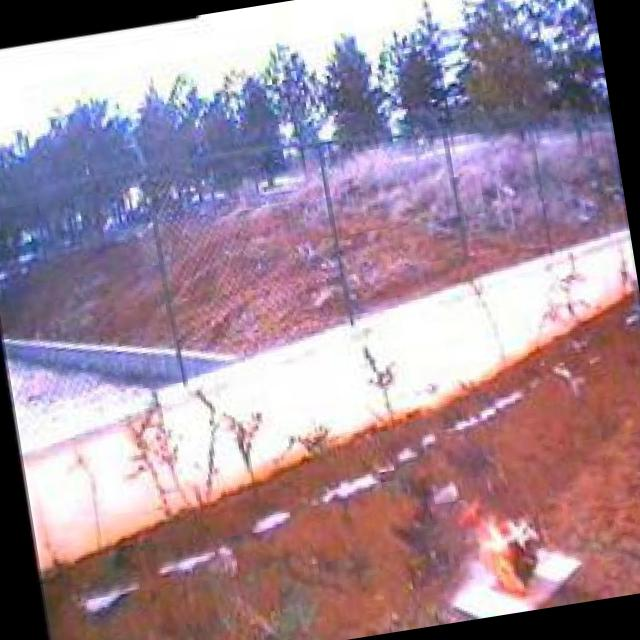Fire: (446, 483, 552, 608)
